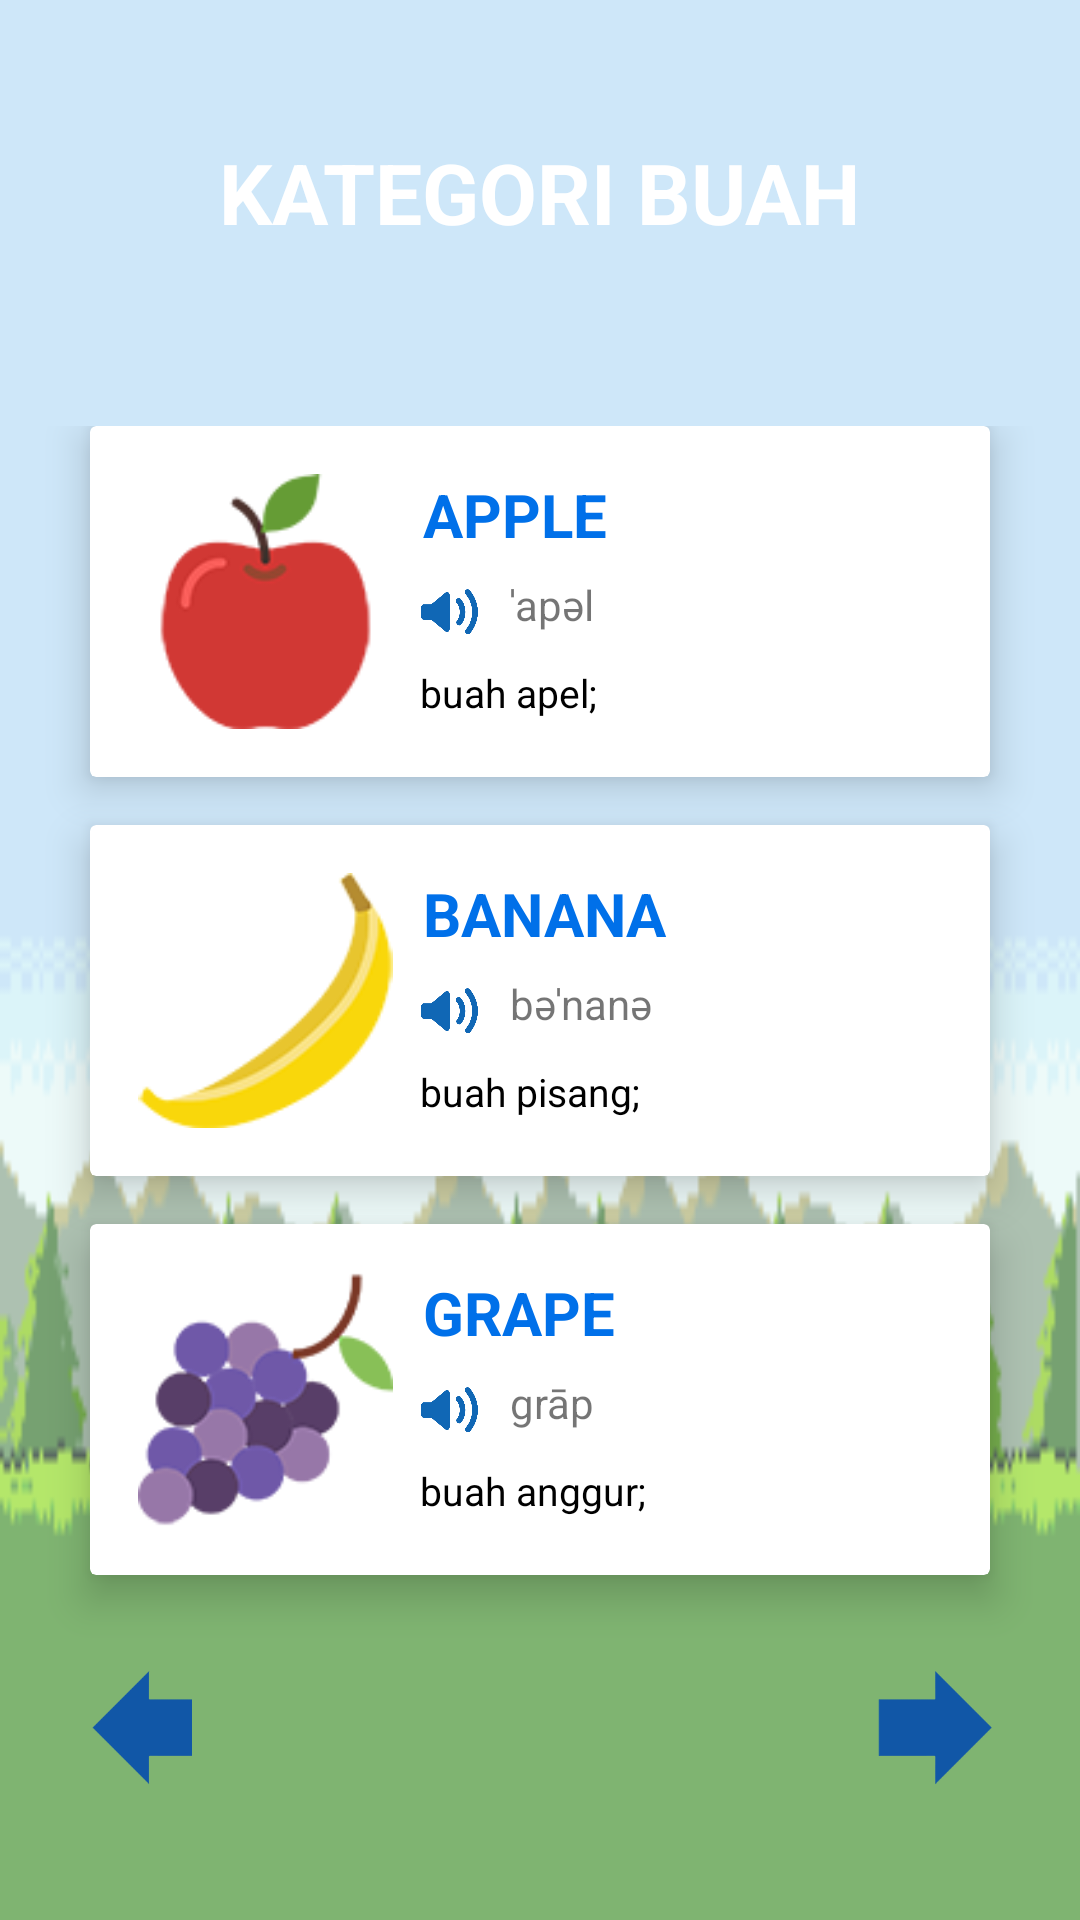

Where to tap for icons on this 1080×1920 app screen, as [x,y]:
audio: [449,611], [449,1010], [449,1409]
panahnext: [935,1727]
